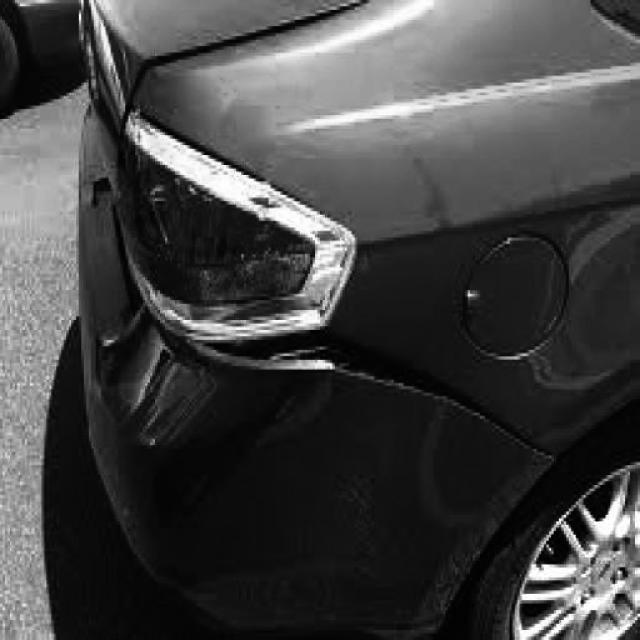car damage: (167, 318, 566, 462)
